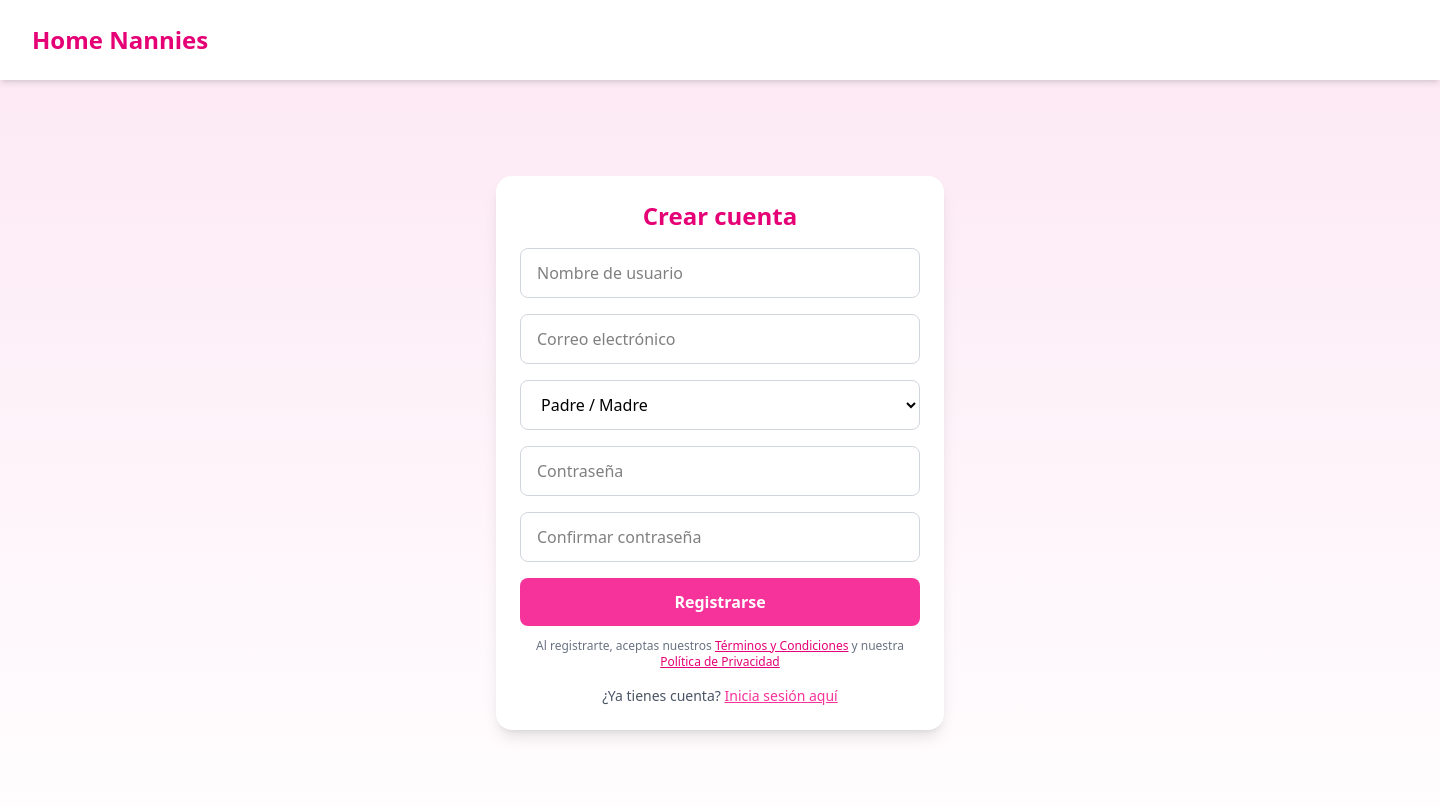
Test: Register Component › valida longitud mínima de contraseña
Type "newuser" into the field with placeholder "Nombre de usuario".
click(720, 273); type("newuser")  # box left=520, top=248, right=920, bottom=298
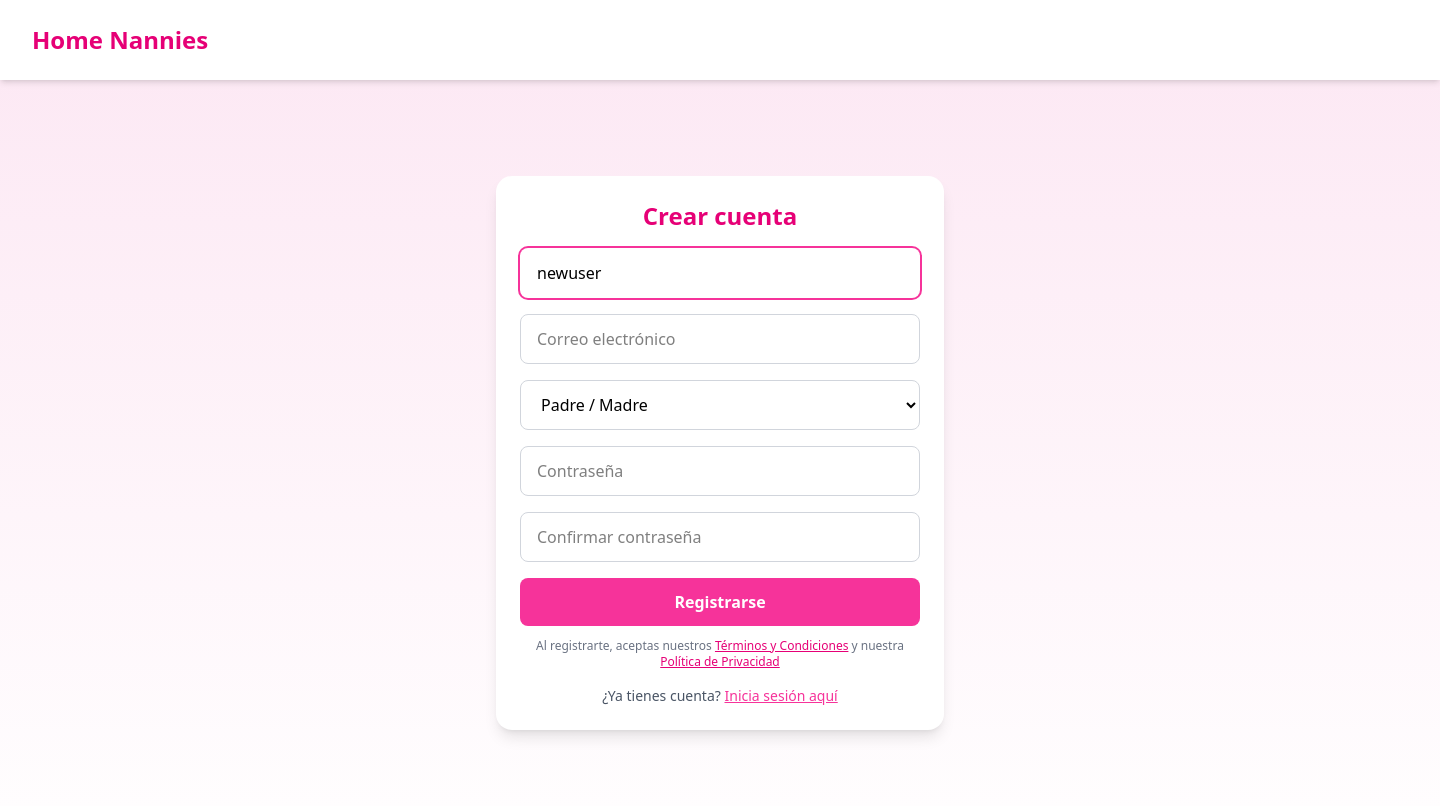
Type "test@example.com" into the field with placeholder "Correo electrónico".
click(720, 339); type("test@example.com")  # box left=520, top=314, right=920, bottom=364
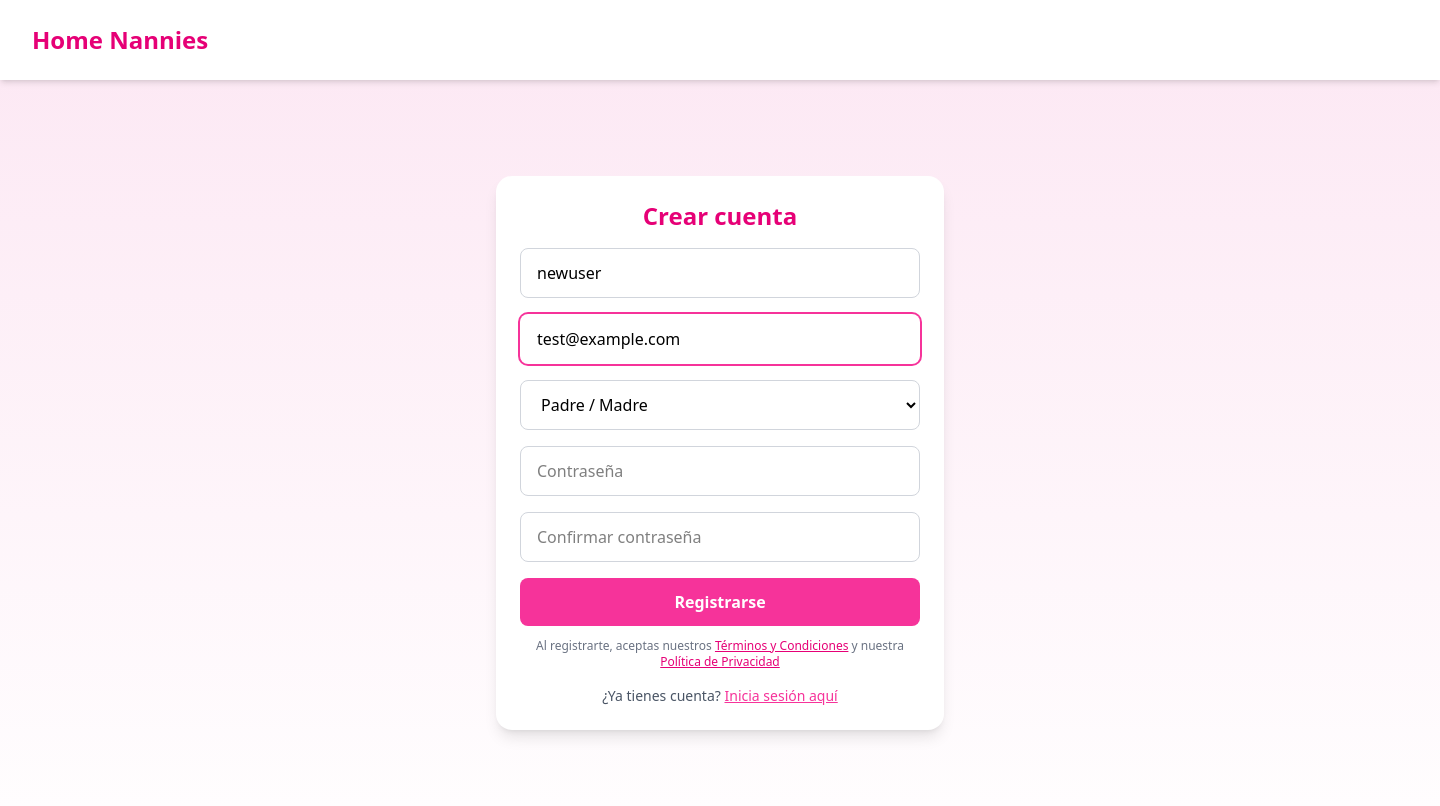
Type "short" into the password field with placeholder "Contraseña".
click(720, 471); type("short")  # box left=520, top=446, right=920, bottom=496
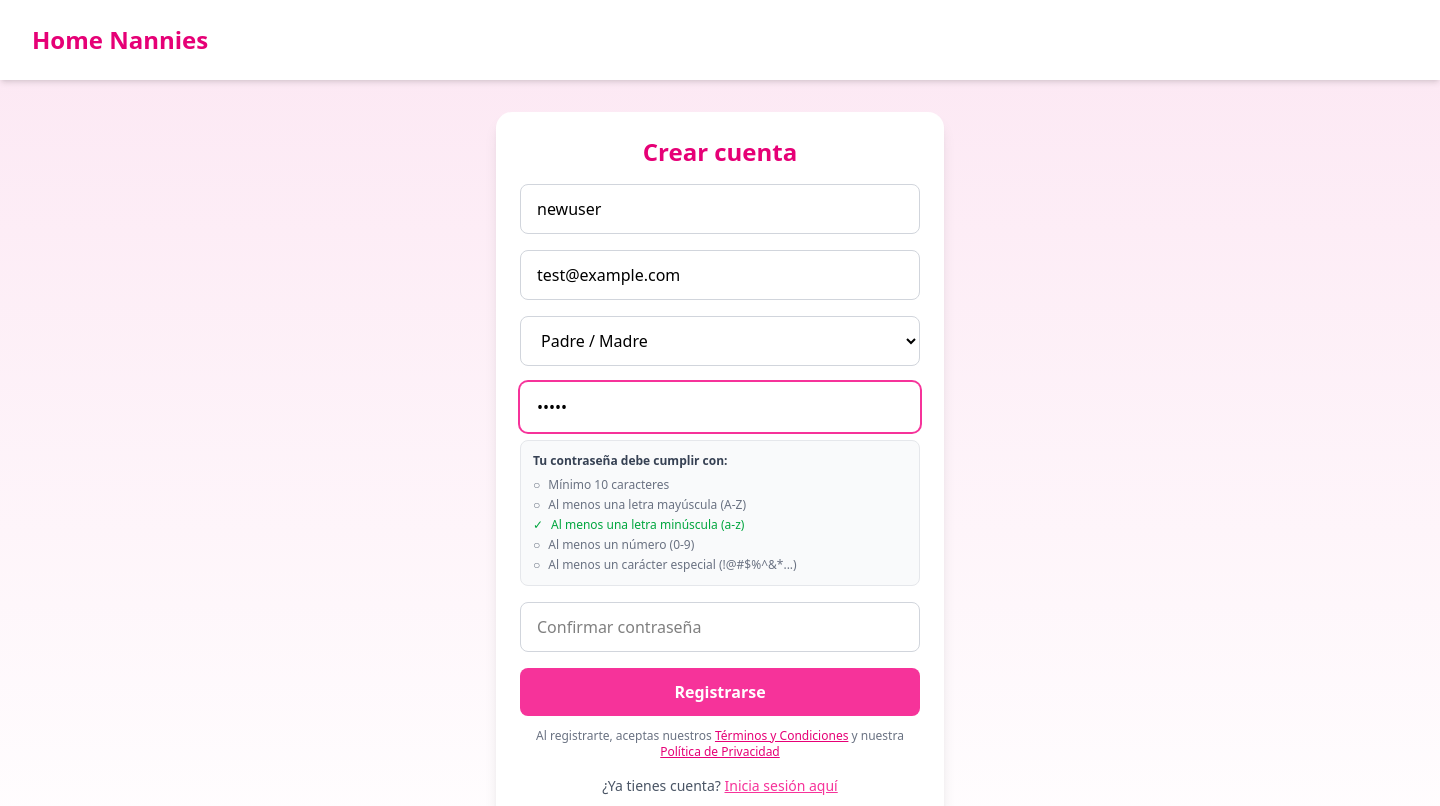
Type "short" into the password field with placeholder "Confirmar contraseña".
click(720, 627); type("short")  # box left=520, top=602, right=920, bottom=652
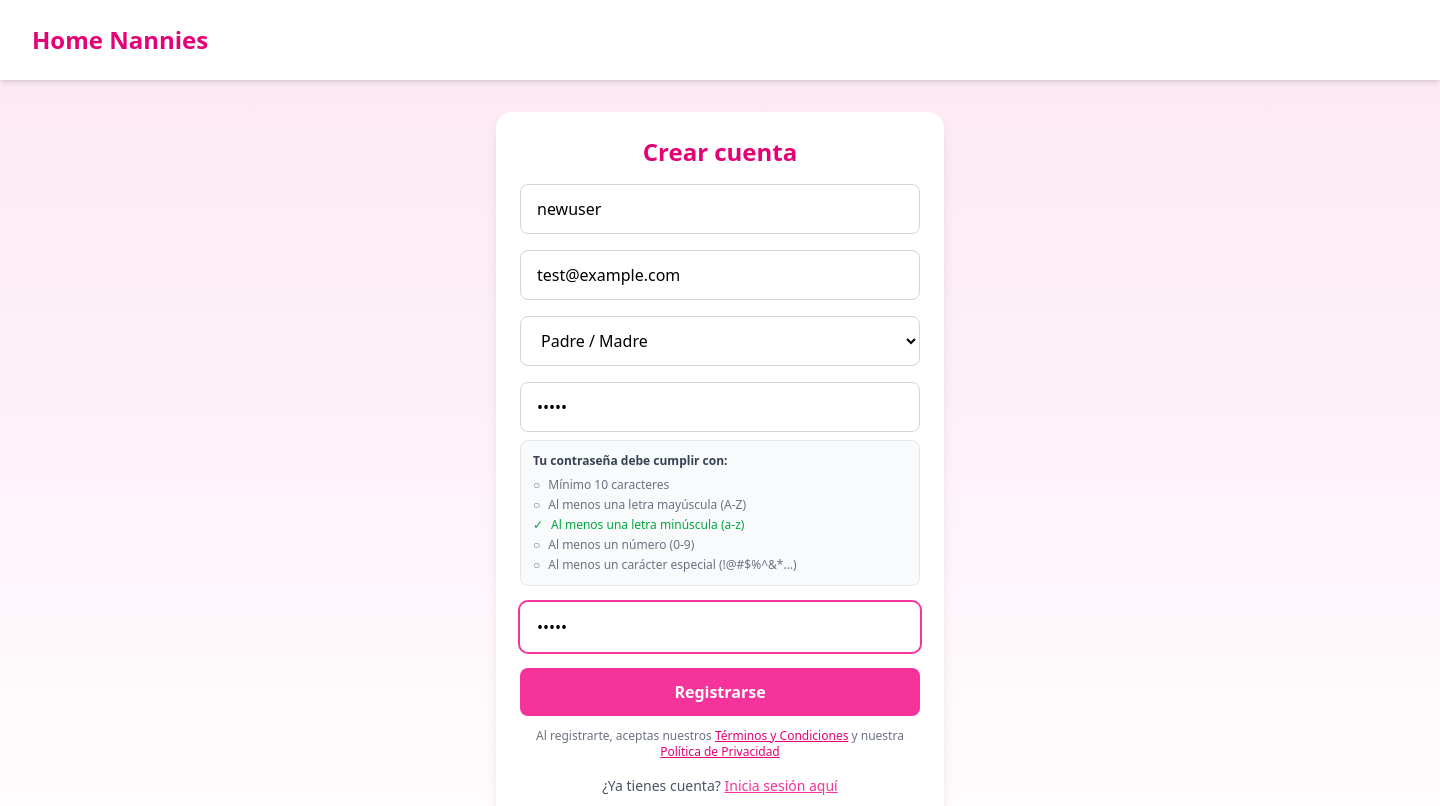
Click the button "Registrarse".
click(720, 692)  # box left=520, top=668, right=920, bottom=716
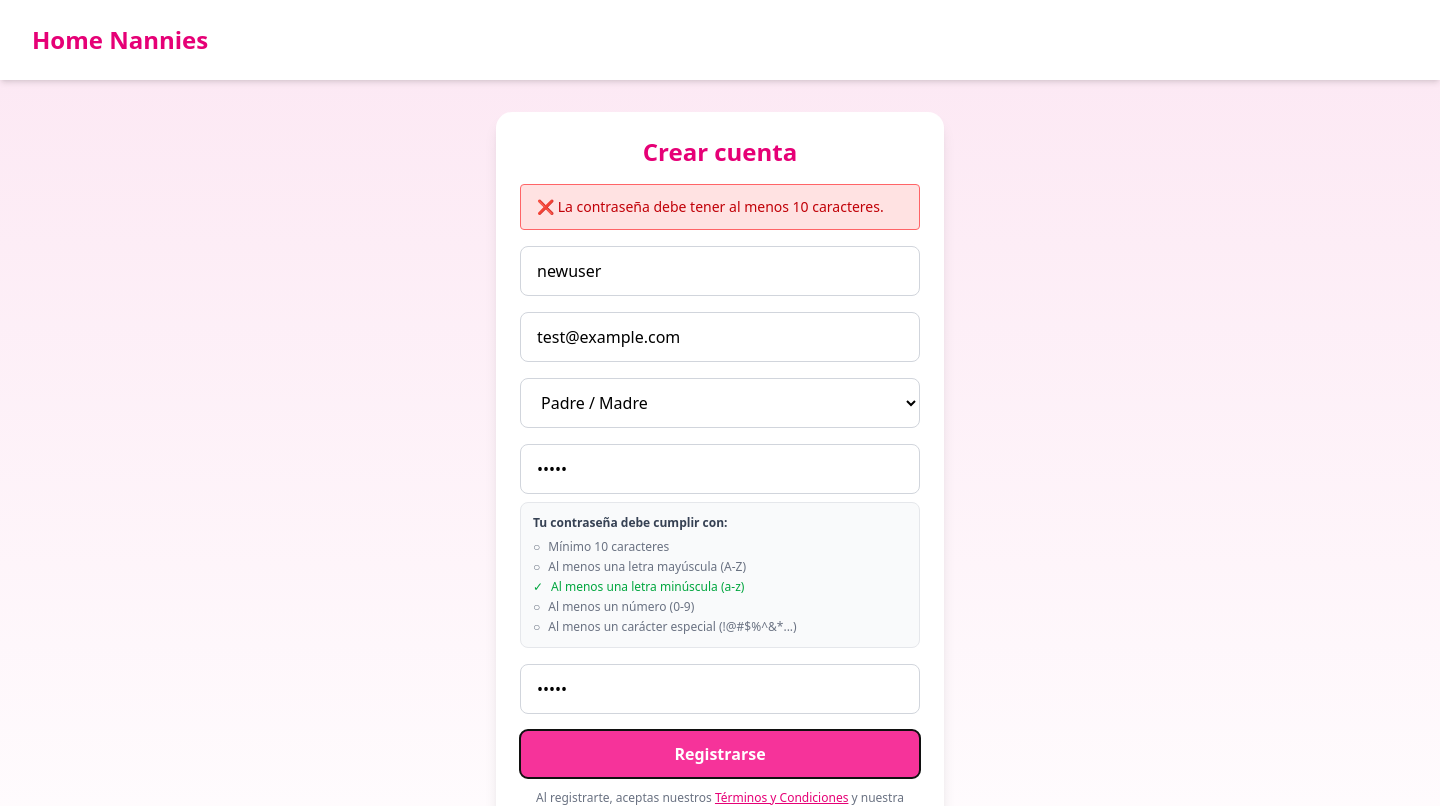
Expected: the text "❌ La contraseña debe tener al menos 10 caracteres." is shown, left=520, top=184, right=920, bottom=230
